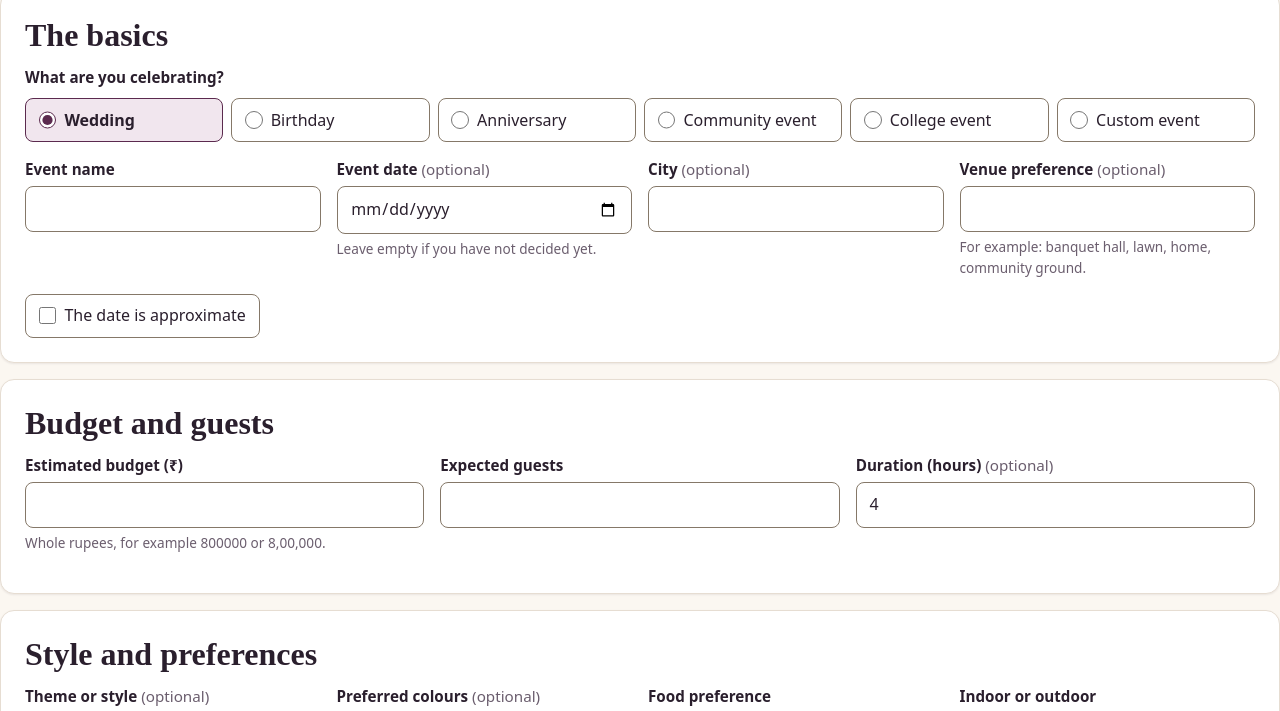
EventForm › shows server-side field errors when the API rejects the input
Type "Party" into the field labelled "Event name" at (173, 208), box [25,186,320,232]
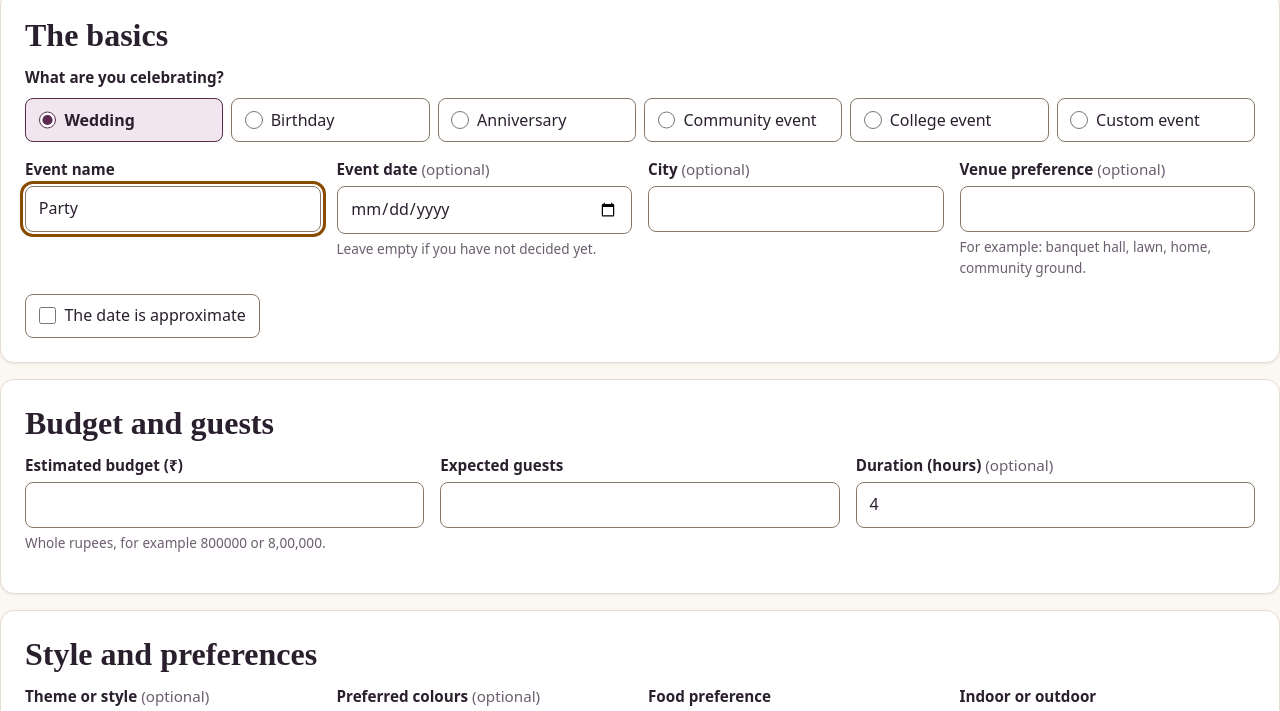
Type "50000" into the field labelled "Estimated budget (₹)" at (225, 505), box [25,482,424,528]
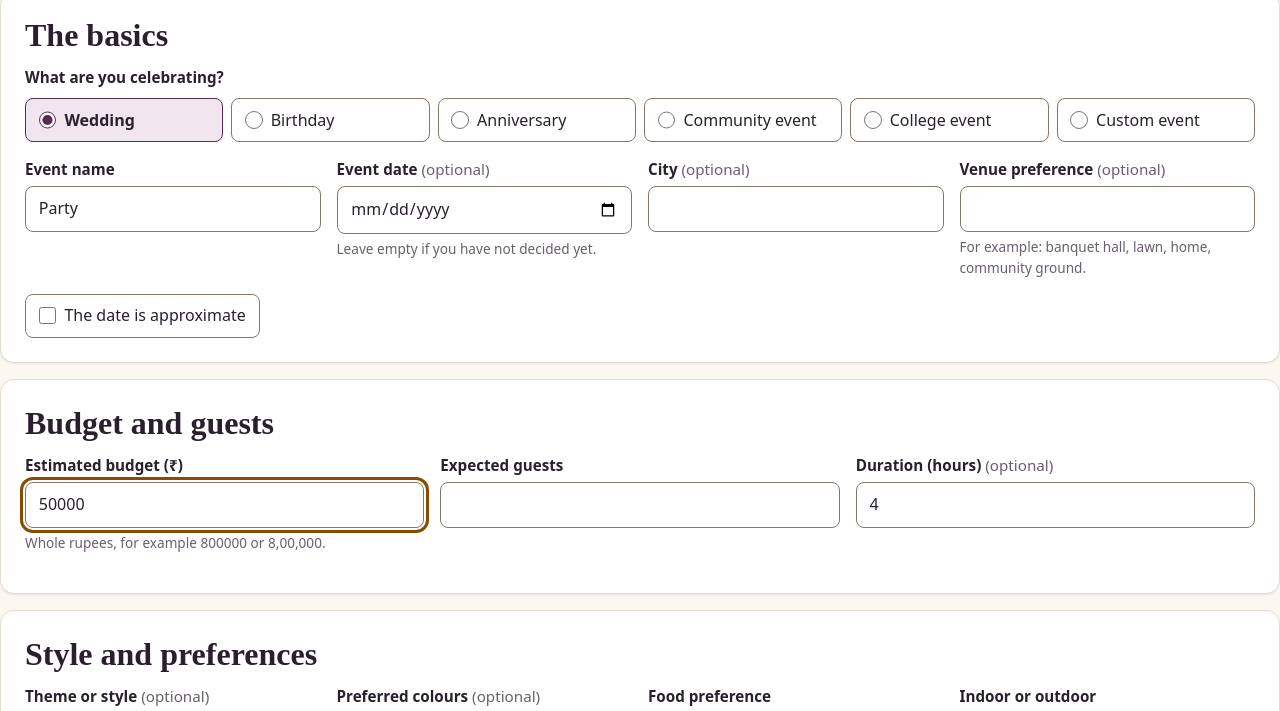
Type "40" into the field labelled "Expected guests" at (640, 505), box [440,482,840,528]
(page scrolled)
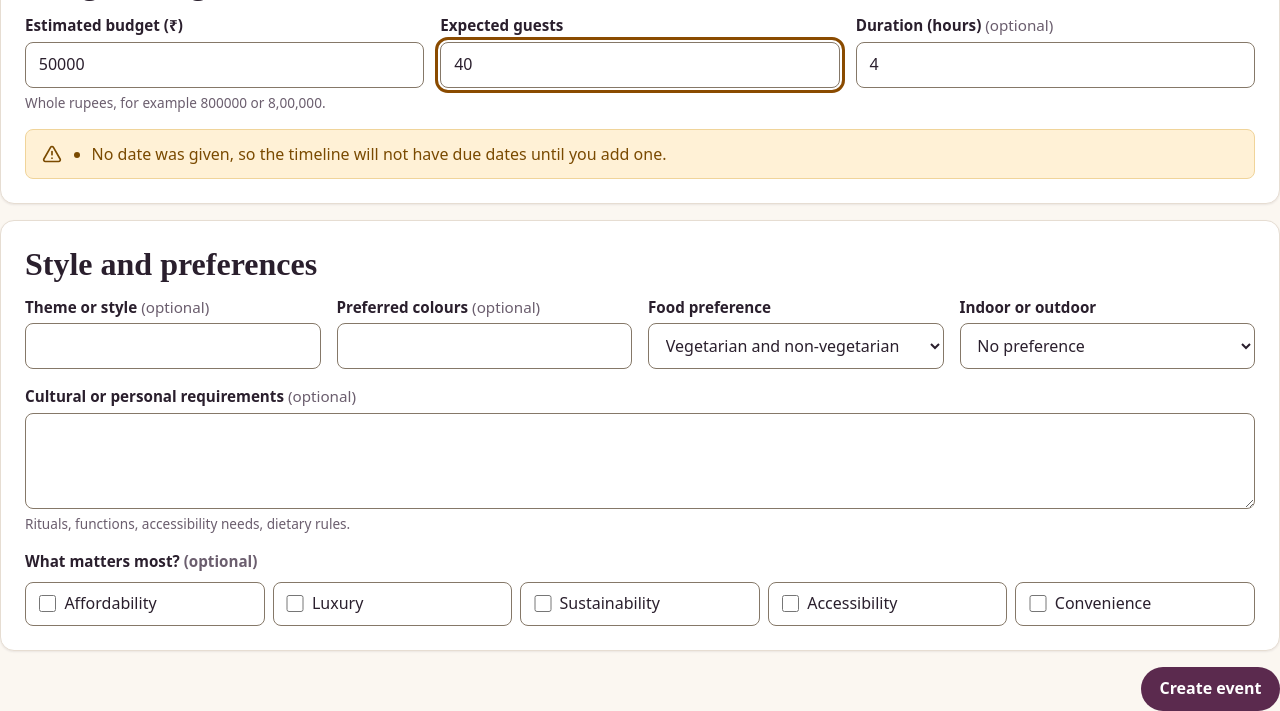
Click the button "Create event" at (1210, 688), box [1141,666,1279,710]
(page scrolled)
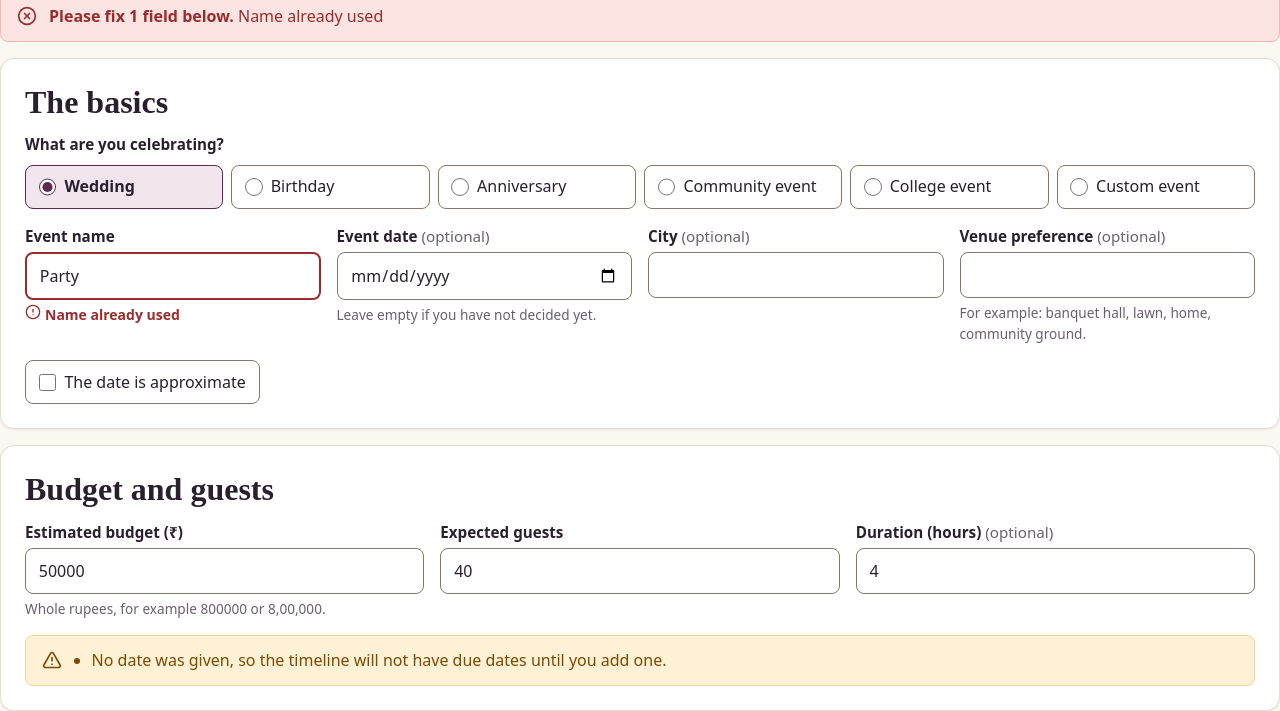
Result: the text "Please fix 1 field below. Name already used" is shown at [49,4,383,29]
